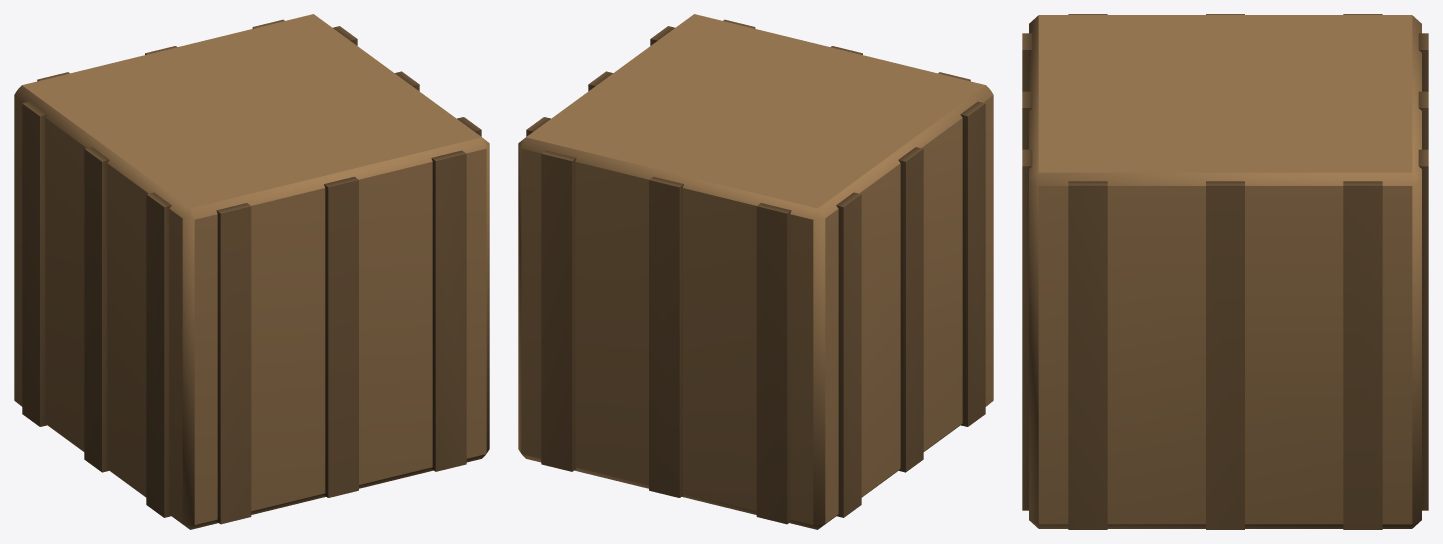
Rendered from cargo_crate.glb.
3 views of the same model, side by side, from view 1: azimuth 30°, elevation 25°; view 2: azimuth 150°, elevation 25°; view 3: azimuth 270°, elevation 25° (orthographic). The views are drawn at different scales.
Parts seen in each view (by area): view 1: cargo_crate_mesh; view 2: cargo_crate_mesh; view 3: cargo_crate_mesh.
Boxes of the visible parts, box(x1,y1,x2,y2) form: cargo_crate_mesh: box(14, 14, 489, 529); cargo_crate_mesh: box(518, 14, 993, 529); cargo_crate_mesh: box(1022, 14, 1428, 529).
Bounding box in the file's own units: 1.24 × 1.2 × 1.24.
